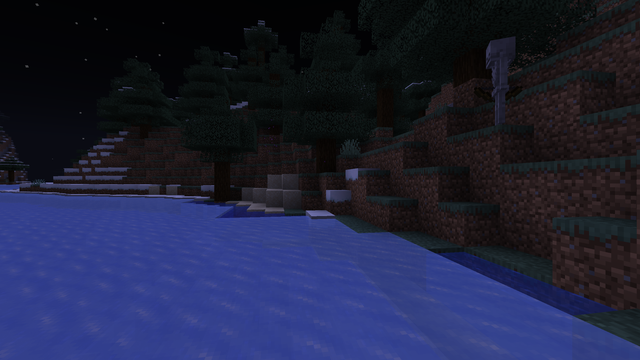squelettes: (479, 36, 520, 126)
